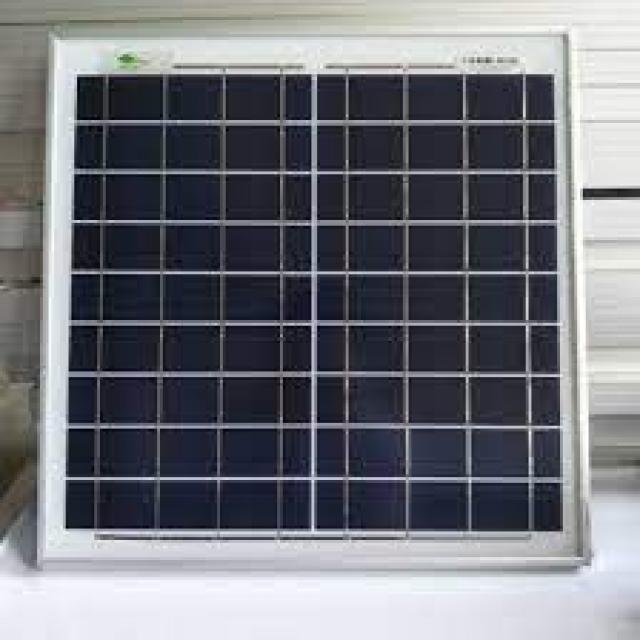no faulty: (81, 67, 559, 535)
